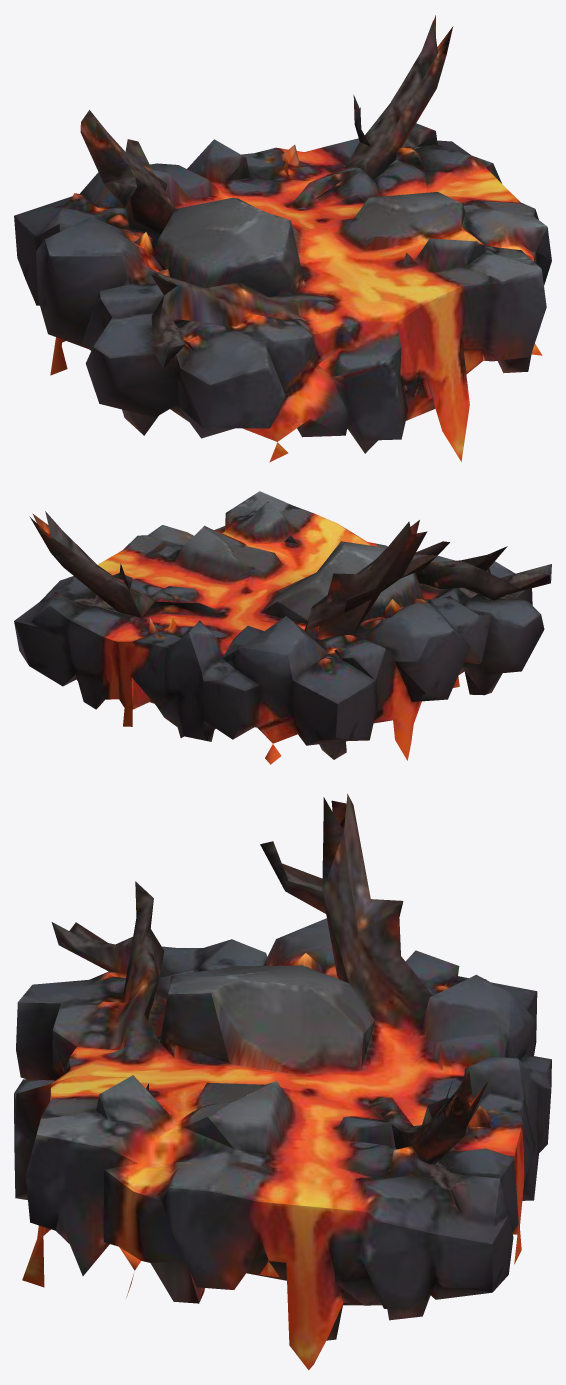
File: d_braises_cime.glb
3 renders of one model, top to bottom at view 1: azimuth 30°, elevation 25°; view 2: azimuth 150°, elevation 25°; view 3: azimuth 270°, elevation 25°, orthographic. The views are drawn at different scales.
Visible parts, largest first — view 1: geometry_0; view 2: geometry_0; view 3: geometry_0.
Boxes of the visible parts, left/top/right/bottom form: geometry_0: left=14, top=15, right=551, bottom=462; geometry_0: left=14, top=491, right=551, bottom=764; geometry_0: left=14, top=793, right=551, bottom=1370.
Bounding box in the file's own units: 0.9935 × 0.5905 × 0.8038.
Materials: 1 (1 with a texture image).
